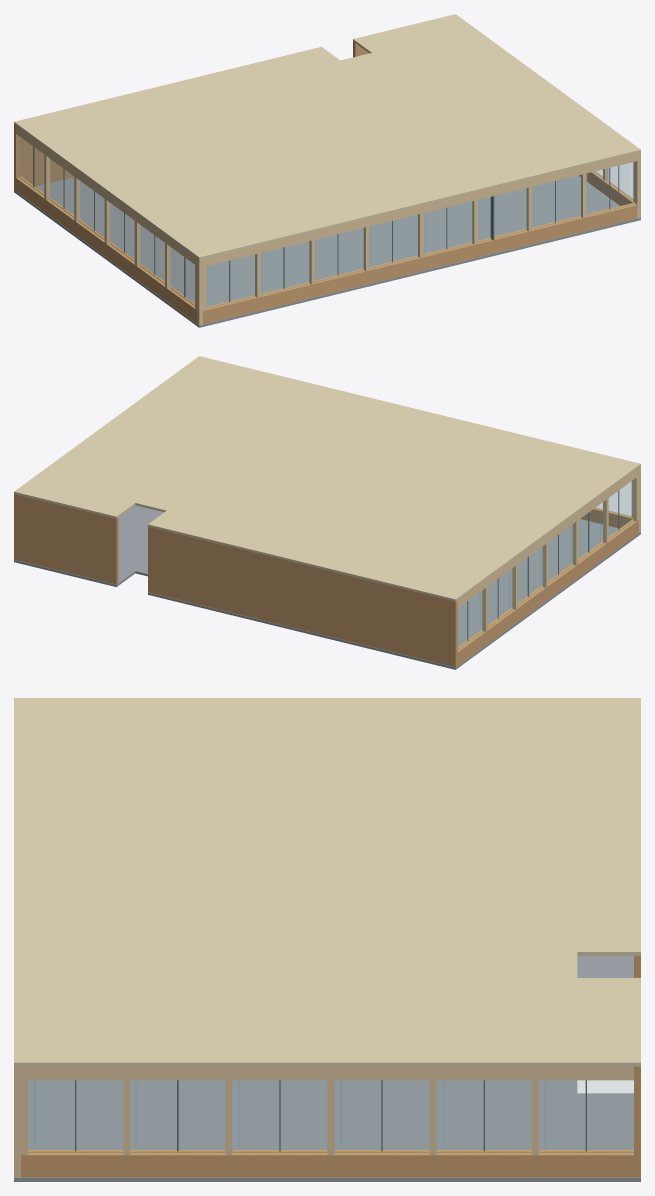
File: server_room_exterior.glb
The picture shows the model from 3 angles, top to bottom: view 1: azimuth 30°, elevation 25°; view 2: azimuth 150°, elevation 25°; view 3: azimuth 270°, elevation 25°; orthographic projection. The views are drawn at different scales.
Parts seen in each view (by area): view 1: server_v12_ceiling_main, server_v12_floor_support_main, server_v12_wall_south_base, server_v12_ceiling_north_west, server_v12_wall_south_header, server_v12_wall_west_base, server_v12_window_south_03, server_v12_window_south_01, server_v12_window_south_07, server_v12_window_south_04, server_v12_window_south_02, server_v12_window_south_06 (+14 smaller); view 2: server_v12_ceiling_main, server_v12_wall_north_west, server_v12_floor_support_main, server_v12_wall_north_east, server_v12_ceiling_north_west, server_v12_wall_west_base, server_v12_ceiling_north_east, server_v12_wall_west_header, server_v12_window_west_03, server_v12_window_west_02, server_v12_window_west_05, server_v12_floor_support_north_west (+5 smaller); view 3: server_v12_ceiling_main, server_v12_floor_support_main, server_v12_ceiling_north_west, server_v12_wall_east_base, server_v12_wall_east_header, server_v12_window_east_03, server_v12_window_east_02, server_v12_window_east_05, server_v12_window_east_00, server_v12_window_east_01, server_v12_window_east_04, server_v12_ceiling_north_east (+4 smaller).
Boxes of the visible parts, box(x1,y1,x2,y2) form: server_v12_ceiling_main: box(32, 28, 640, 259); server_v12_floor_support_main: box(32, 175, 640, 327); server_v12_wall_south_base: box(203, 204, 637, 324); server_v12_ceiling_north_west: box(14, 46, 340, 137); server_v12_wall_south_header: box(203, 153, 637, 266); server_v12_wall_west_base: box(16, 177, 197, 323); server_v12_window_south_03: box(369, 215, 419, 269); server_v12_window_south_01: box(261, 241, 310, 296); server_v12_window_south_07: box(587, 162, 635, 216); server_v12_window_south_04: box(424, 202, 473, 254); server_v12_window_south_02: box(315, 228, 365, 280); server_v12_window_south_06: box(532, 175, 581, 228); server_v12_ceiling_main: box(33, 356, 640, 587); server_v12_wall_north_west: box(148, 526, 457, 667); server_v12_floor_support_main: box(118, 505, 640, 655); server_v12_wall_north_east: box(14, 494, 118, 584); server_v12_ceiling_north_west: box(148, 510, 474, 601); server_v12_wall_west_base: box(457, 520, 638, 665); server_v12_ceiling_north_east: box(14, 478, 135, 518); server_v12_wall_west_header: box(457, 468, 638, 607); server_v12_window_west_03: box(518, 546, 545, 603); server_v12_window_west_02: box(548, 524, 575, 581); server_v12_window_west_05: box(458, 589, 485, 651); server_v12_floor_support_north_west: box(148, 592, 474, 669); server_v12_ceiling_main: box(14, 698, 577, 1066); server_v12_floor_support_main: box(14, 1080, 577, 1181); server_v12_ceiling_north_west: box(577, 698, 640, 955); server_v12_wall_east_base: box(21, 1152, 633, 1177); server_v12_wall_east_header: box(21, 1066, 633, 1080); server_v12_window_east_03: box(335, 1080, 429, 1154); server_v12_window_east_02: box(232, 1080, 326, 1154); server_v12_window_east_05: box(539, 1080, 633, 1154); server_v12_window_east_00: box(28, 1080, 122, 1154); server_v12_window_east_01: box(130, 1080, 224, 1154); server_v12_window_east_04: box(437, 1080, 531, 1154); server_v12_ceiling_north_east: box(577, 978, 640, 1066).
Bounding box in the file's own units: 36.6 × 5.58 × 26.6.
